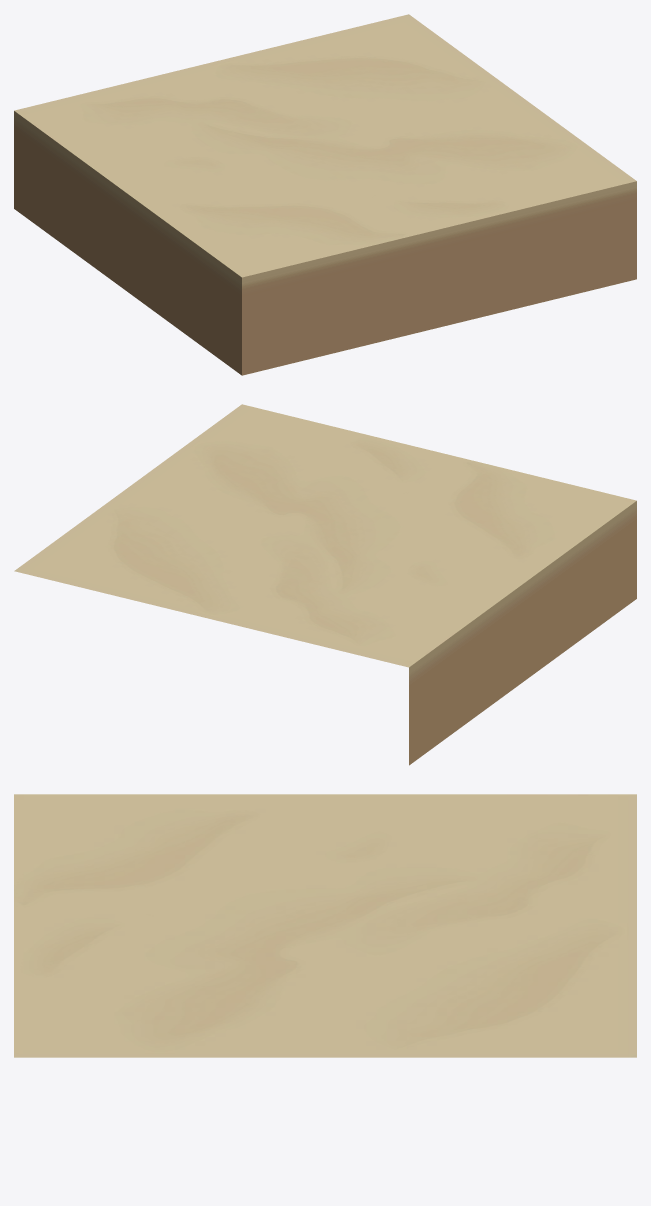
File: my_ariussummer_01_tile_2x2.glb
The picture shows the model from 3 angles, top to bottom: view 1: azimuth 30°, elevation 25°; view 2: azimuth 150°, elevation 25°; view 3: azimuth 270°, elevation 25°; orthographic projection. The views are drawn at different scales.
Visible parts, largest first — view 1: my_ariussummer_01_tile_2x2; view 2: my_ariussummer_01_tile_2x2; view 3: my_ariussummer_01_tile_2x2.
Part boxes in pixels (x1=…): my_ariussummer_01_tile_2x2: x1=14, y1=14, x2=636, y2=375; my_ariussummer_01_tile_2x2: x1=14, y1=404, x2=636, y2=765; my_ariussummer_01_tile_2x2: x1=14, y1=794, x2=636, y2=1057.
Size of the model in its own units: 0.012 by 0.00285 by 0.012.
Materials: 1 (1 with a texture image).
